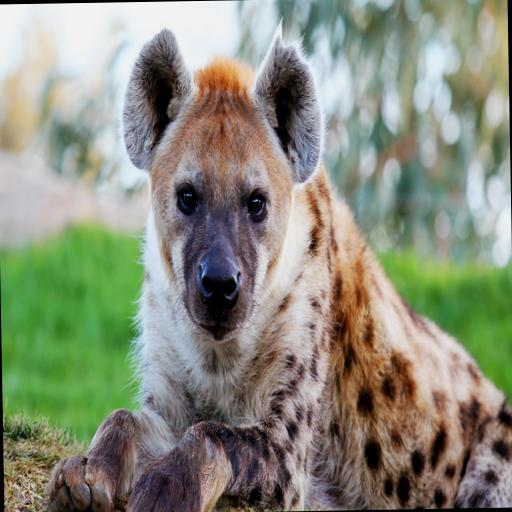hyenas: (52, 23, 486, 512)
